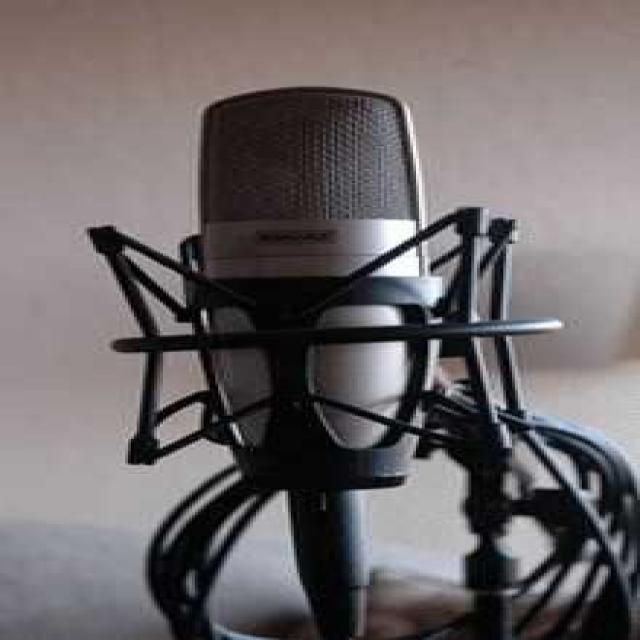microphone: (191, 90, 434, 485)
